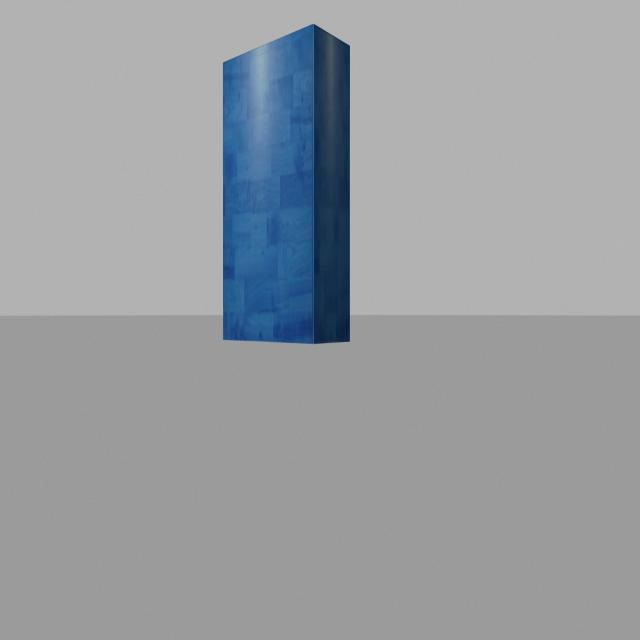shelf: (212, 15, 357, 360)
